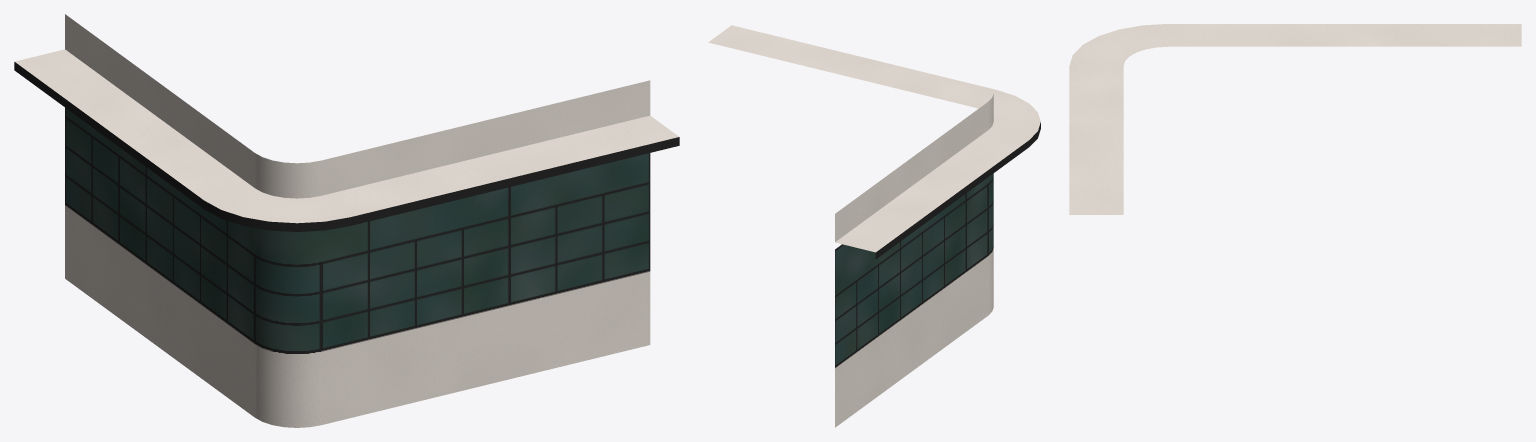
File: corner.gltf
3 views of the same model, side by side, from view 1: azimuth 30°, elevation 25°; view 2: azimuth 150°, elevation 25°; view 3: azimuth 270°, elevation 25° (orthographic). The views are drawn at different scales.
Parts seen in each view (by area): view 1: corner; view 2: corner; view 3: corner.
Part boxes in pixels (x1=…): corner: x1=14, y1=14, x2=679, y2=427; corner: x1=708, y1=25, x2=1040, y2=427; corner: x1=1069, y1=24, x2=1521, y2=214.
Size of the model in its own units: 5 by 3 by 5.
Materials: 3 (2 with a texture image).
